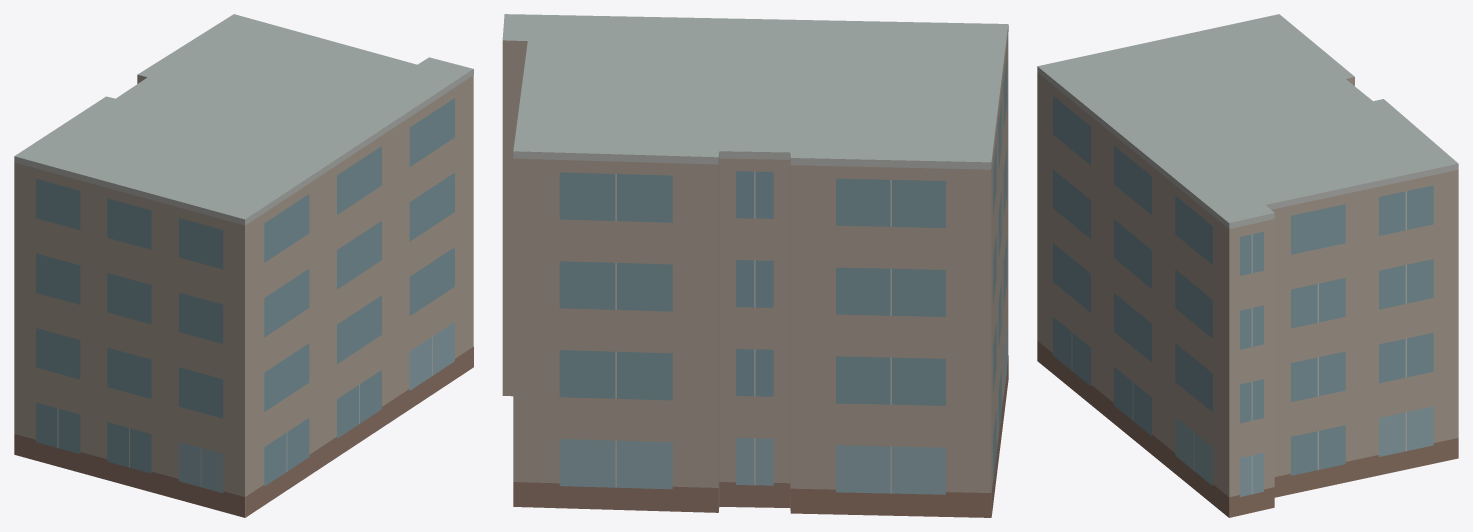
Rendered from survey-upis-32677227.glb.
3 views of the same model, side by side, from view 1: azimuth 30°, elevation 25°; view 2: azimuth 150°, elevation 25°; view 3: azimuth 270°, elevation 25° (orthographic). The views are drawn at different scales.
Parts seen in each view (by area): view 1: survey-upis-32677227.tmp; view 2: survey-upis-32677227.tmp; view 3: survey-upis-32677227.tmp.
Part boxes in pixels (box(x1,y1,x2,y2)): survey-upis-32677227.tmp: box(14, 14, 473, 517); survey-upis-32677227.tmp: box(502, 14, 1008, 517); survey-upis-32677227.tmp: box(1037, 14, 1458, 517).
Size of the model in its own units: 18.13 by 11.9 by 15.43.
